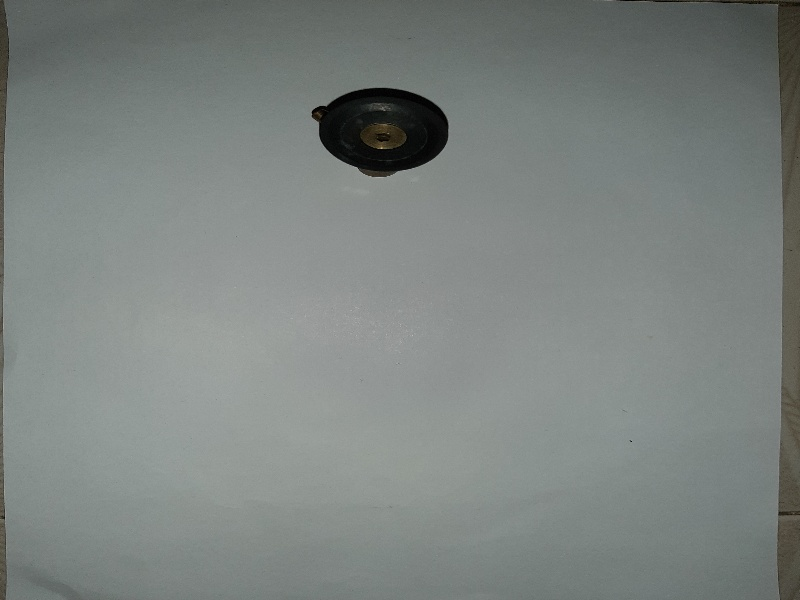Joint Hold: (309, 78, 457, 184)
